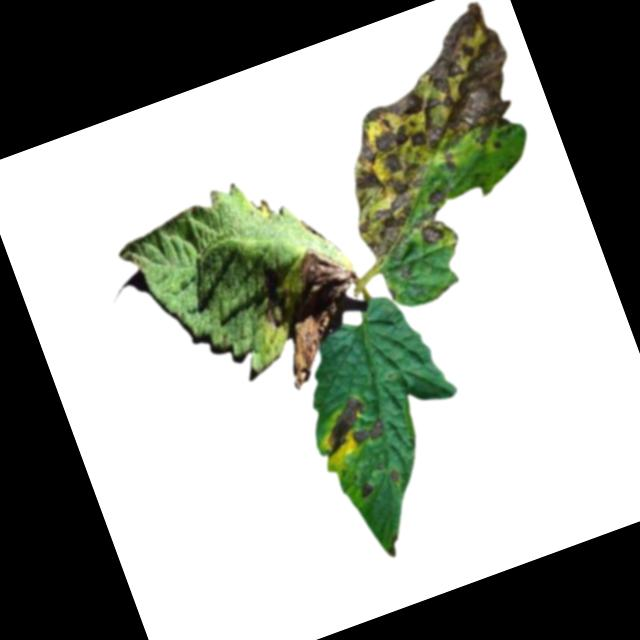Early_blight: (296, 1, 561, 270), (252, 235, 386, 392), (311, 392, 380, 458), (350, 416, 390, 448), (389, 468, 402, 484)
